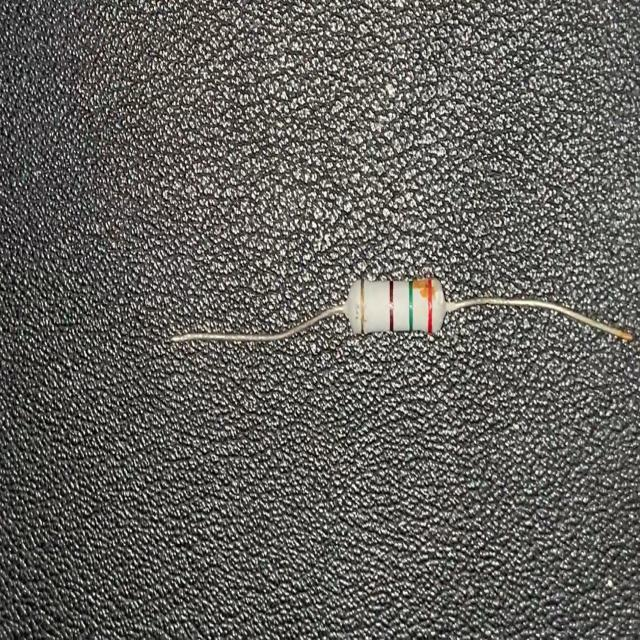burnt: (408, 276, 438, 297)
resistor: (170, 272, 636, 348)
